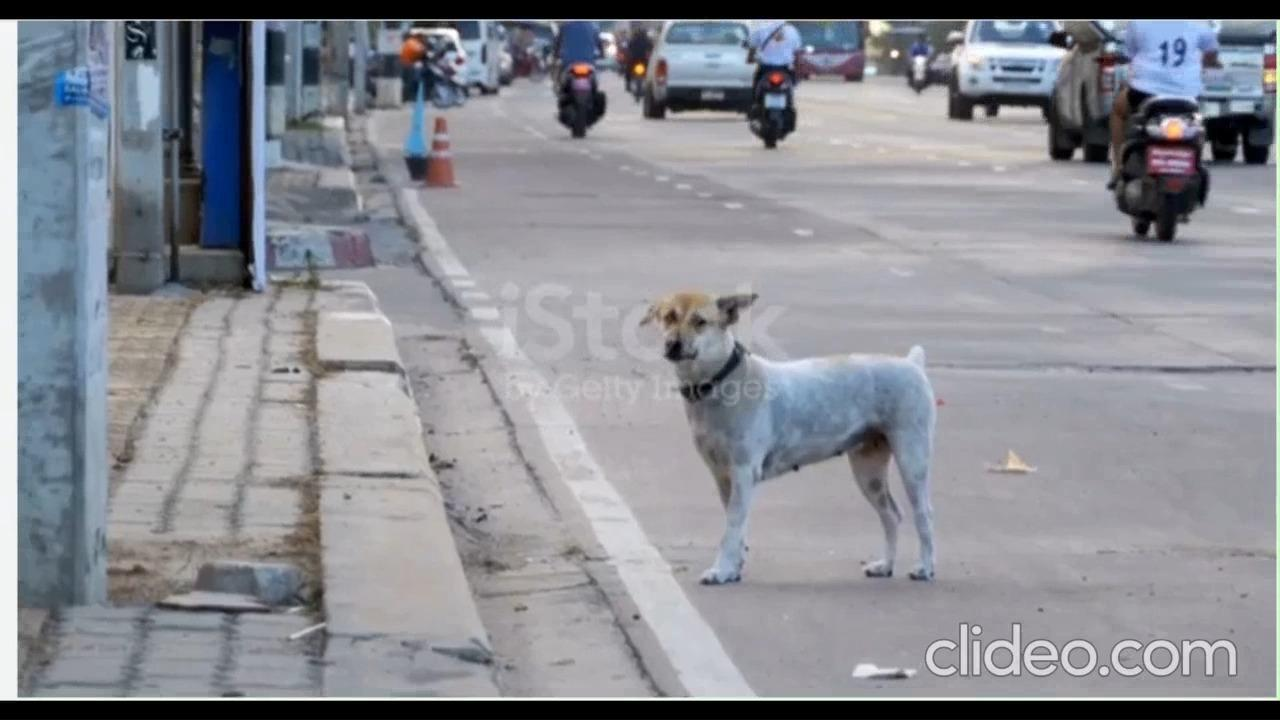dog: (631, 284, 935, 596)
